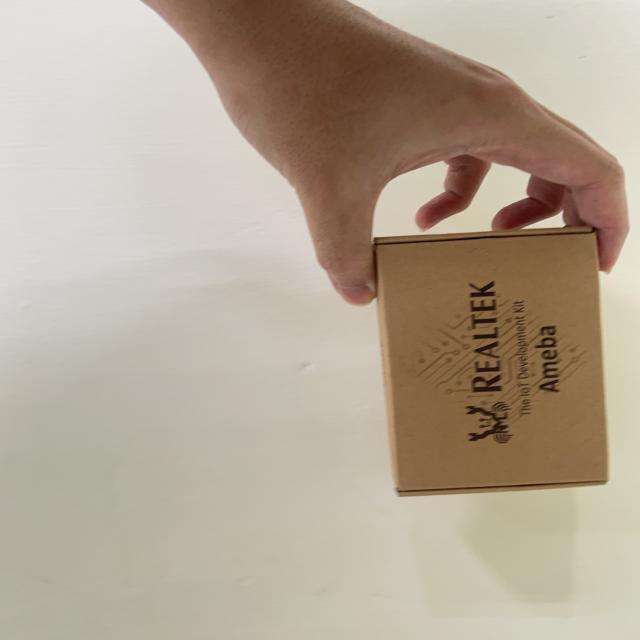box: (372, 213, 640, 502)
